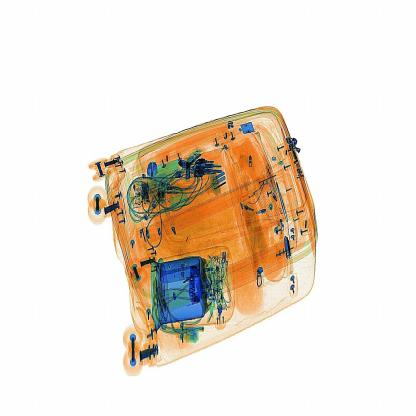scissors: (187, 262, 208, 314)
